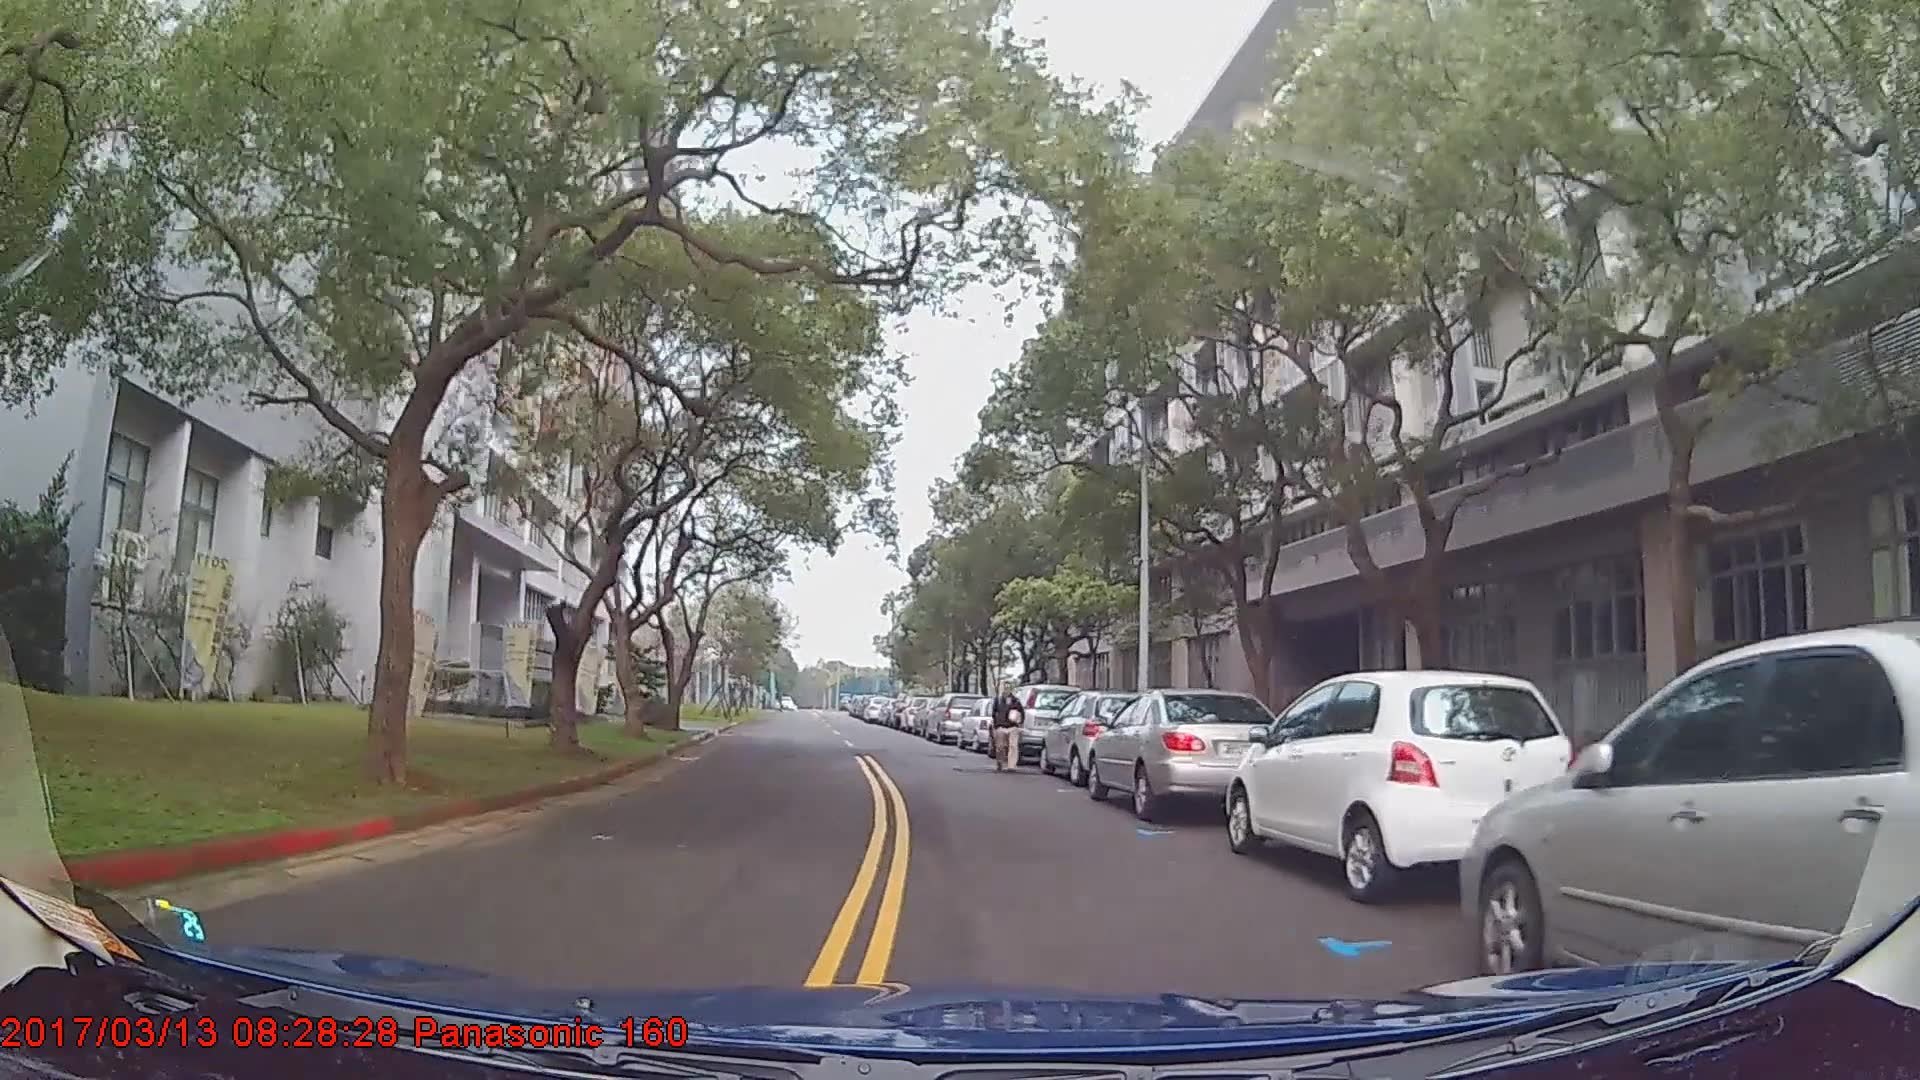pedestrian: (992, 676, 1027, 772)
vehicle: (1458, 617, 1920, 1025), (1225, 667, 1581, 903), (1084, 686, 1286, 819), (1038, 686, 1164, 783), (992, 682, 1085, 763), (955, 693, 1021, 753), (925, 691, 985, 744)
